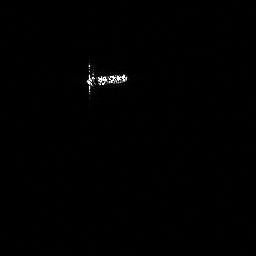ship: (82, 57, 130, 97)
